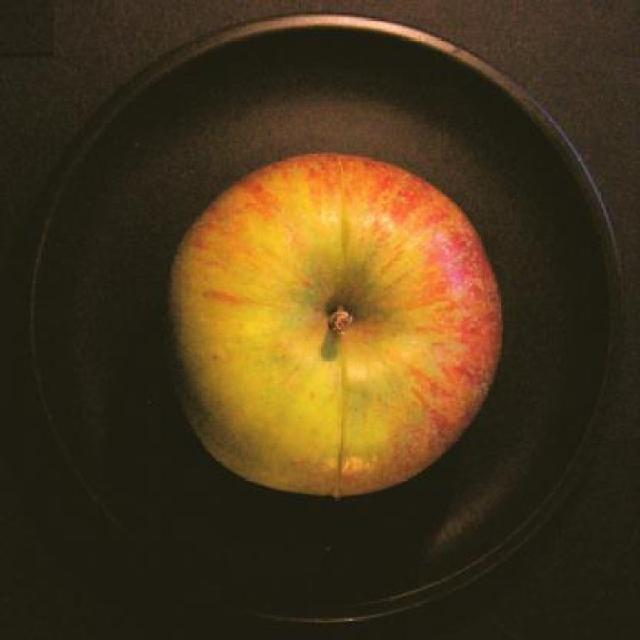Apple pie: (158, 140, 530, 497)
